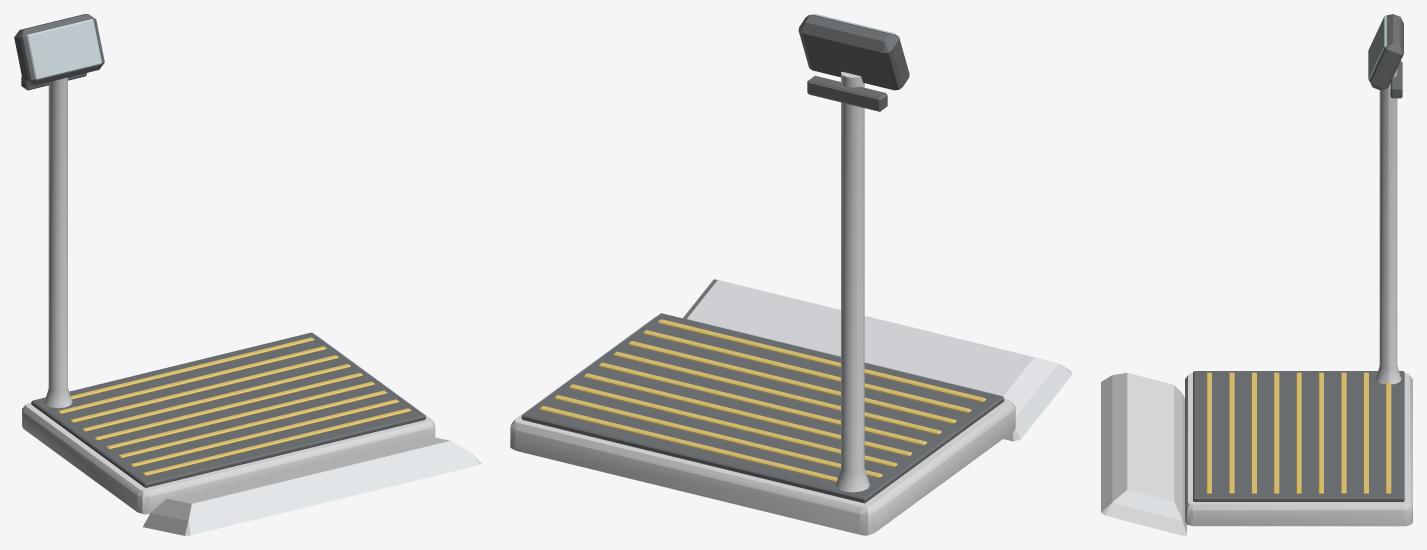
The model's file is clinic-and-veterinary-practice-pet-weighing-platform-b728f15e__16729.glb.
3 renders of one model, left to right at view 1: azimuth 30°, elevation 25°; view 2: azimuth 150°, elevation 25°; view 3: azimuth 270°, elevation 25°, orthographic. The views are drawn at different scales.
Parts seen in each view (by area): view 1: pet-weighing-platform; view 2: pet-weighing-platform; view 3: pet-weighing-platform.
Boxes of the visible parts, bbox=[...] form: pet-weighing-platform: bbox=[14, 14, 481, 535]; pet-weighing-platform: bbox=[510, 14, 1072, 535]; pet-weighing-platform: bbox=[1101, 14, 1412, 535].
Bounding box in the file's own units: 0.81 × 1.05 × 0.7657.
